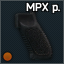MPX pistol grip: (0, 0, 64, 64)
